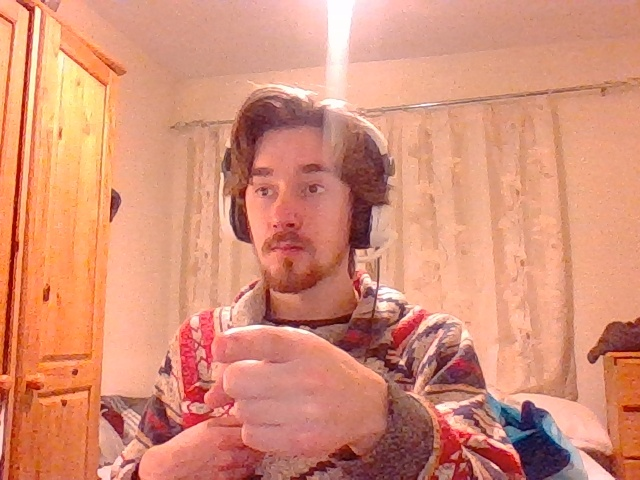you: (205, 324, 379, 446)
